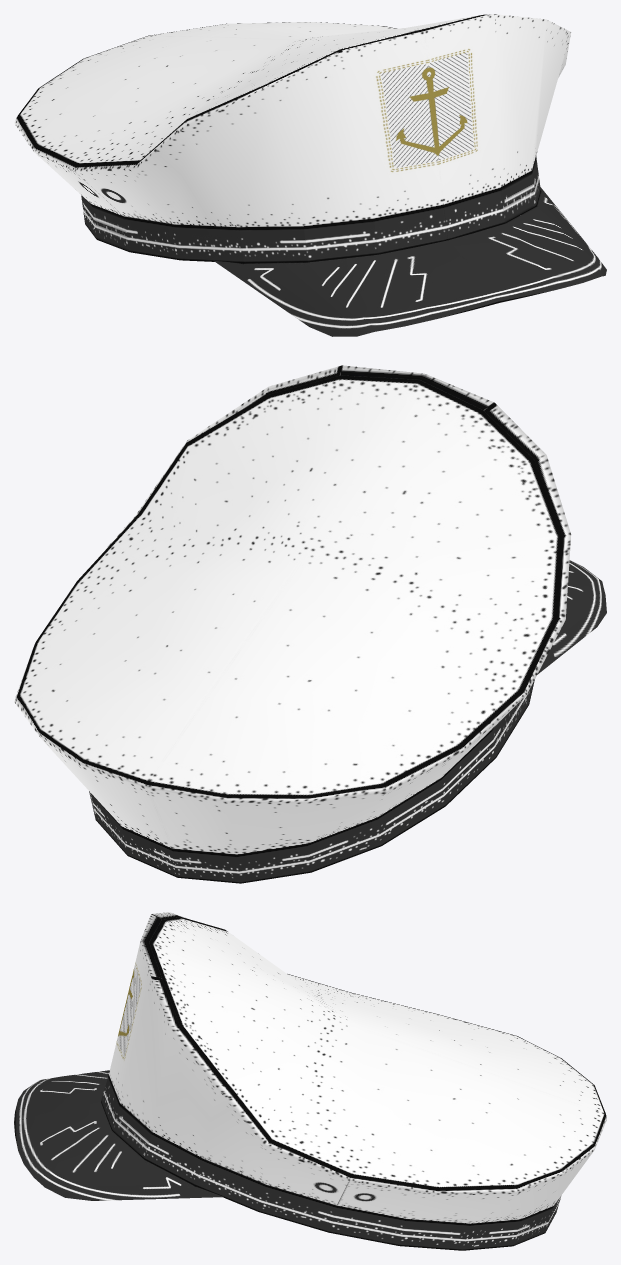
File: hat.glb
The picture shows the model from 3 angles, top to bottom: view 1: azimuth 30°, elevation 25°; view 2: azimuth 150°, elevation 25°; view 3: azimuth 270°, elevation 25°; orthographic projection. The views are drawn at different scales.
Visible parts, largest first — view 1: Hat1; view 2: Hat1; view 3: Hat1.
Part boxes in pixels (x1,y1,x2,y2): Hat1: (14, 14, 606, 336); Hat1: (14, 365, 606, 883); Hat1: (14, 912, 606, 1250).
Bounding box in the file's own units: 11.17 × 7.64 × 15.07.
Materials: 1 (1 with a texture image).
